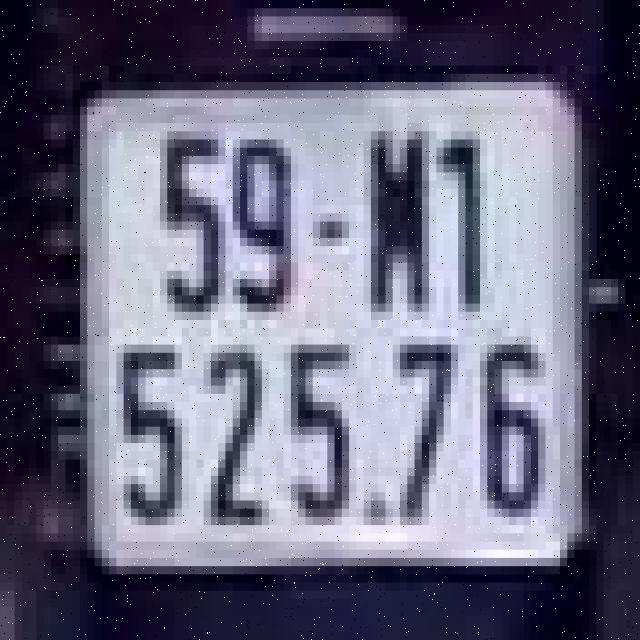1: (433, 127, 491, 324)
2: (196, 340, 276, 538)
5: (109, 328, 189, 542), (284, 332, 364, 538), (146, 123, 226, 328)
6: (480, 332, 553, 530)
7: (378, 332, 466, 530)
9: (233, 135, 305, 316)
M: (360, 115, 440, 328)
